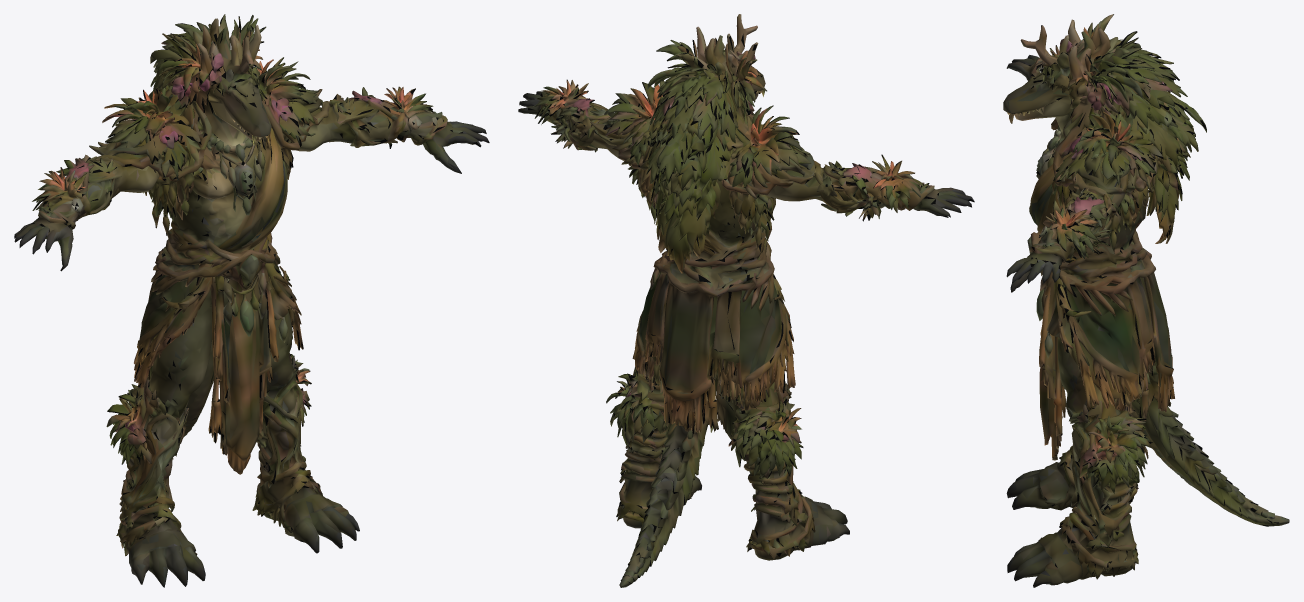
The model's file is king-croc.glb.
3 renders of one model, left to right at view 1: azimuth 30°, elevation 25°; view 2: azimuth 150°, elevation 25°; view 3: azimuth 270°, elevation 25°, orthographic. The views are drawn at different scales.
Visible parts, largest first — view 1: Model; view 2: Model; view 3: Model.
Part boxes in pixels (x1,y1,x2,y2): Model: (14,14,489,587); Model: (518,14,974,587); Model: (1003,14,1289,587).
Bounding box in the file's own units: 1.78 × 1.89 × 0.9585.
Materials: 1 (1 with a texture image).
